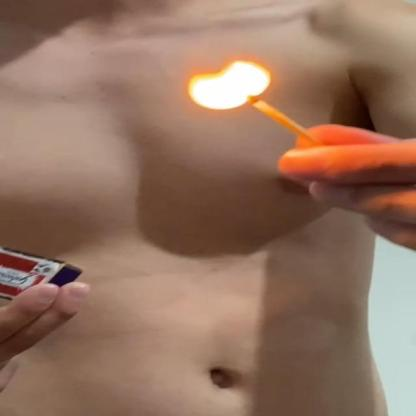fire: (179, 48, 271, 111)
